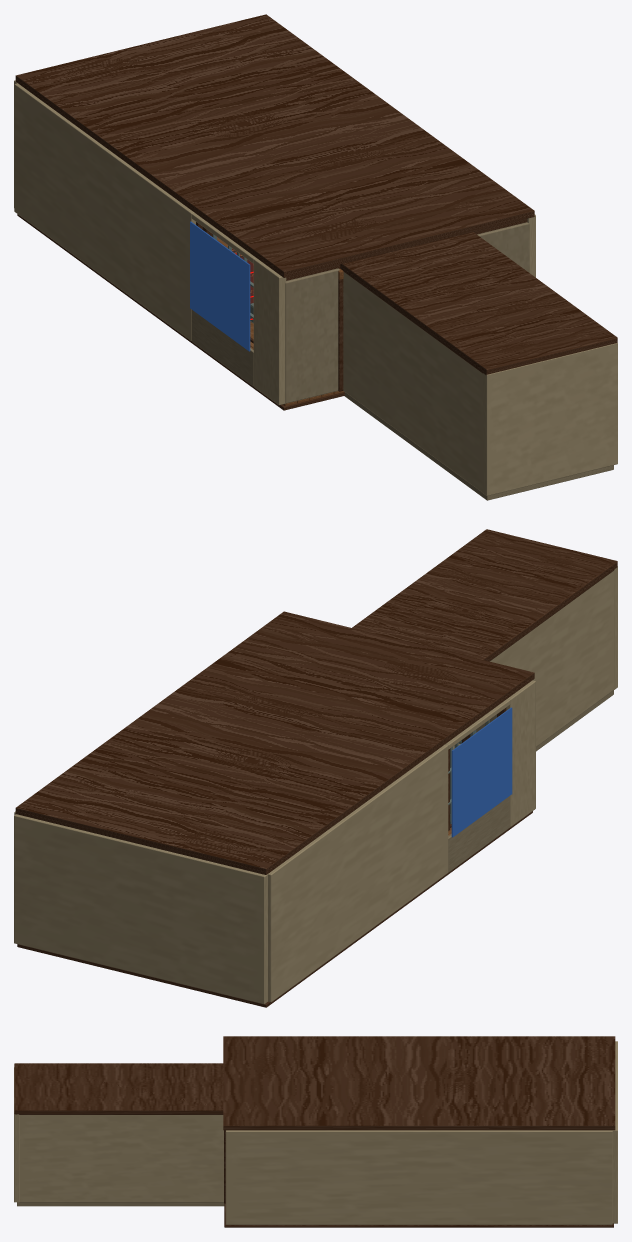
The model's file is vault.glb.
3 views of the same model, one above another, from view 1: azimuth 30°, elevation 25°; view 2: azimuth 150°, elevation 25°; view 3: azimuth 270°, elevation 25° (orthographic). The views are drawn at different scales.
Visible parts, largest first — view 1: Ceiling, LeftBackPlaster, VestibuleCeiling, CorridorWall, CorridorEndWall, EntranceSide, NightBeyondWindow, LeftFrontPlaster, WindowSillWall, EntranceSide.001, VestibuleFloor, FloorUnderlay (+1 smaller); view 2: Ceiling, BackPlaster, LeftBackPlaster, VestibuleCeiling, CorridorWall, NightBeyondWindow, LeftFrontPlaster, WindowSillWall, FloorUnderlay; view 3: Ceiling, RightPlaster, CorridorWall.001, VestibuleCeiling, FloorUnderlay, VestibuleFloor, BackPlaster, CorridorEndWall.
Boxes of the visible parts, left/top/right/bottom form: Ceiling: left=15, top=14, right=534, bottom=277; LeftBackPlaster: left=14, top=83, right=195, bottom=340; VestibuleCeiling: left=340, top=232, right=617, bottom=375; CorridorWall: left=343, top=272, right=483, bottom=492; CorridorEndWall: left=483, top=343, right=617, bottom=495; EntranceSide: left=285, top=268, right=339, bottom=403; NightBeyondWindow: left=190, top=221, right=250, bottom=351; LeftFrontPlaster: left=253, top=258, right=286, bottom=405; WindowSillWall: left=191, top=310, right=253, bottom=386; EntranceSide.001: left=477, top=222, right=529, bottom=272; VestibuleFloor: left=344, top=391, right=613, bottom=500; FloorUnderlay: left=17, top=214, right=344, bottom=410; Ceiling: left=15, top=611, right=534, bottom=874; BackPlaster: left=14, top=814, right=267, bottom=1004; LeftBackPlaster: left=268, top=744, right=448, bottom=1002; VestibuleCeiling: left=352, top=529, right=617, bottom=661; CorridorWall: left=490, top=571, right=613, bottom=746; NightBeyondWindow: left=451, top=707, right=512, bottom=837; LeftFrontPlaster: left=506, top=680, right=535, bottom=826; WindowSillWall: left=448, top=796, right=510, bottom=872; FloorUnderlay: left=17, top=811, right=532, bottom=1007; Ceiling: left=223, top=1036, right=615, bottom=1130; RightPlaster: left=225, top=1130, right=612, bottom=1224; CorridorWall.001: left=19, top=1115, right=223, bottom=1202; VestibuleCeiling: left=14, top=1063, right=223, bottom=1114; FloorUnderlay: left=224, top=1203, right=613, bottom=1227; VestibuleFloor: left=17, top=1202, right=224, bottom=1206; BackPlaster: left=612, top=1041, right=617, bottom=1223; CorridorEndWall: left=14, top=1067, right=19, bottom=1202.
Bounding box in the file's own units: 8.51 × 4.4 × 23.42.
Materials: 22 (7 with a texture image).
